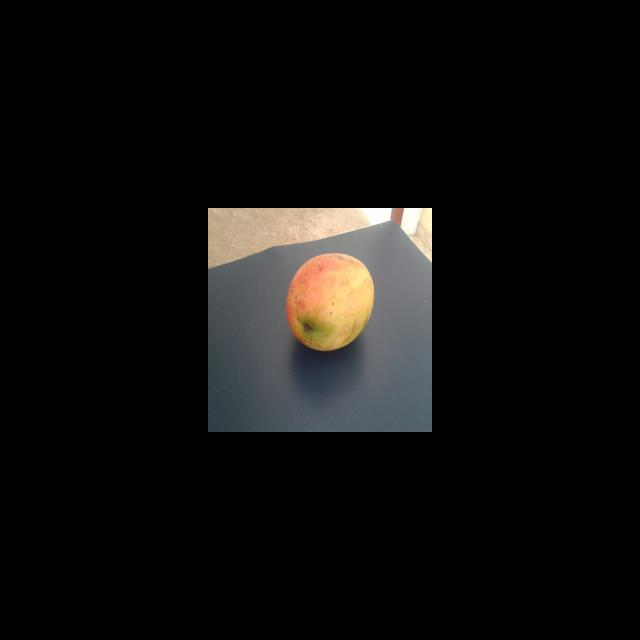Mango: (285, 252, 374, 351)
